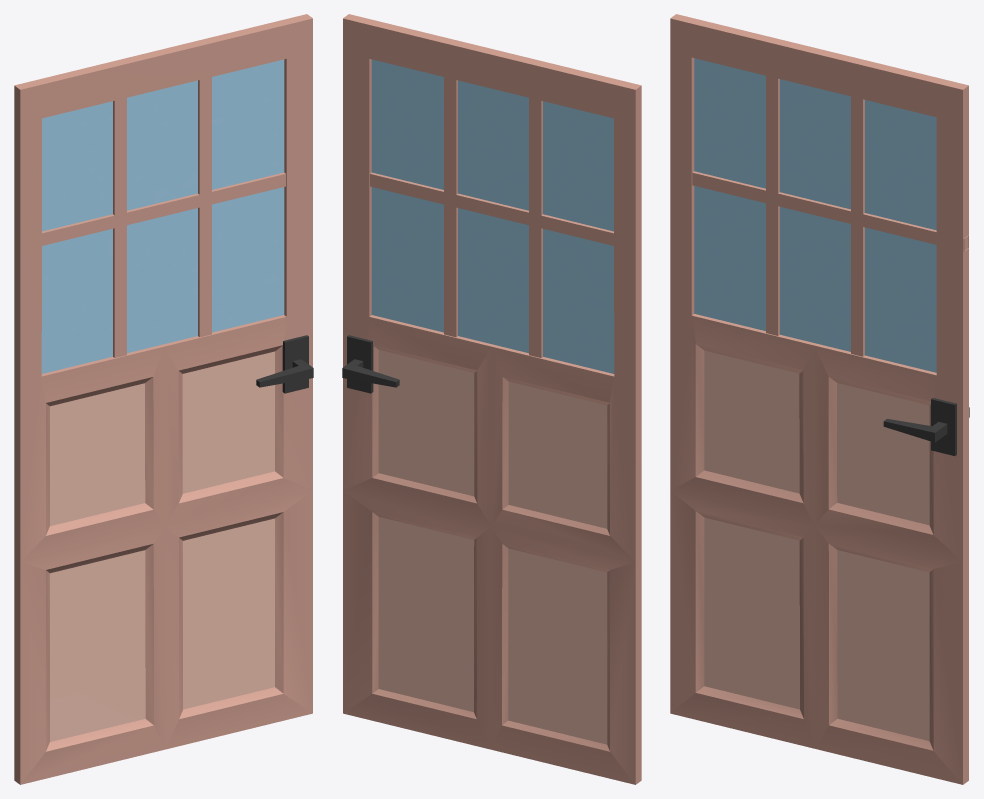
The model's file is door_025.fbx.
3 views of the same model, side by side, from view 1: azimuth 30°, elevation 25°; view 2: azimuth 150°, elevation 25°; view 3: azimuth 330°, elevation 25° (orthographic).
Parts seen in each view (by area): view 1: door_025; view 2: door_025; view 3: door_025.
Part boxes in pixels (box(x1,y1,x2,y2)): door_025: box(14, 14, 313, 784); door_025: box(342, 14, 641, 784); door_025: box(670, 14, 969, 784).
Size of the model in its own units: 104 by 21.25 by 234.
